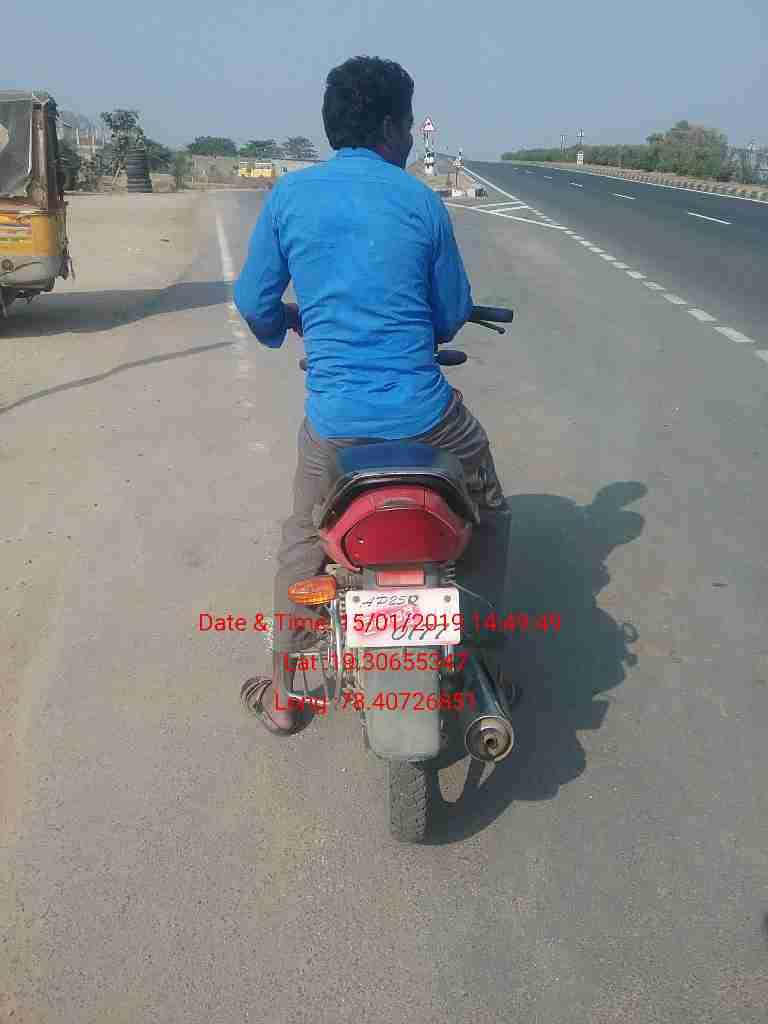without_helmet: (204, 51, 572, 844)
